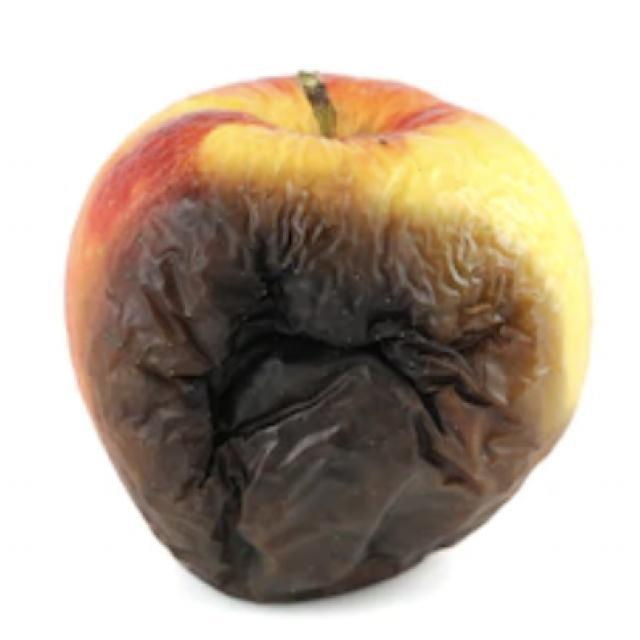Rotten: (47, 68, 595, 595)
